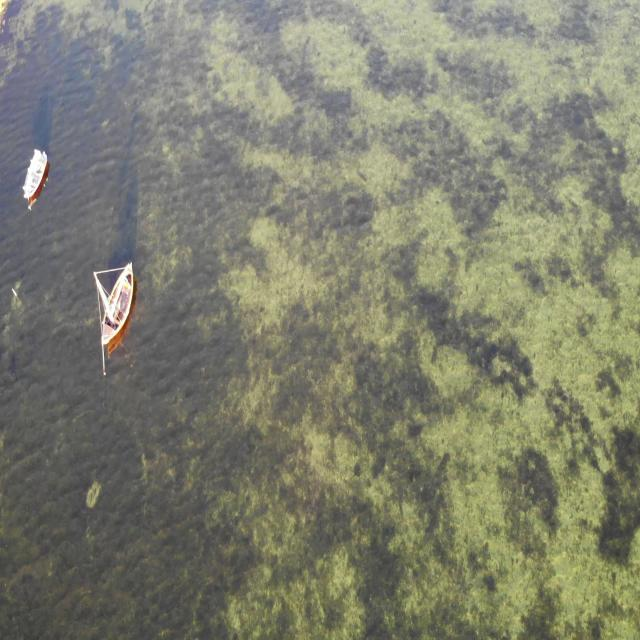boat: (23, 147, 49, 206)
sailboat: (92, 258, 136, 352)
